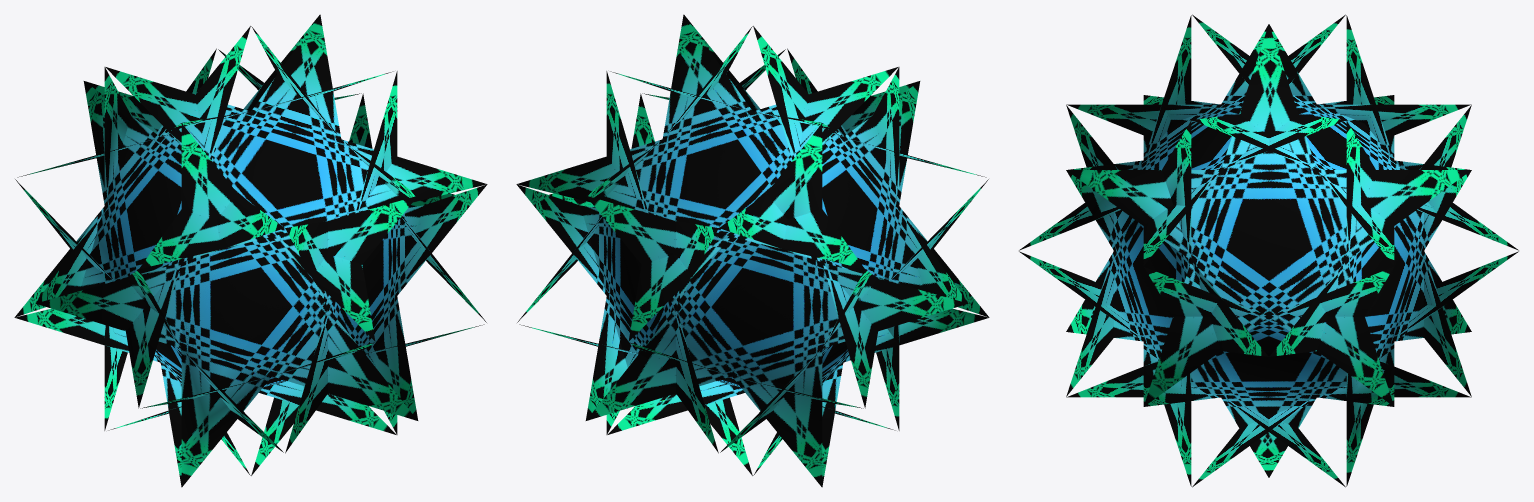
Rendered from 21GreatIcosidodecahedron.gltf.
The picture shows the model from 3 angles, left to right: view 1: azimuth 30°, elevation 25°; view 2: azimuth 150°, elevation 25°; view 3: azimuth 270°, elevation 25°; orthographic projection.
Visible parts, largest first — view 1: 7GreatIcosidodecahedron; view 2: 7GreatIcosidodecahedron; view 3: 7GreatIcosidodecahedron.
Boxes of the visible parts, box(x1,y1,x2,y2) form: 7GreatIcosidodecahedron: box(14, 14, 487, 487); 7GreatIcosidodecahedron: box(516, 14, 989, 487); 7GreatIcosidodecahedron: box(1019, 14, 1518, 487).
Bounding box in the file's own units: 1.24 × 1.24 × 1.24.
Materials: 1 (1 with a texture image).
